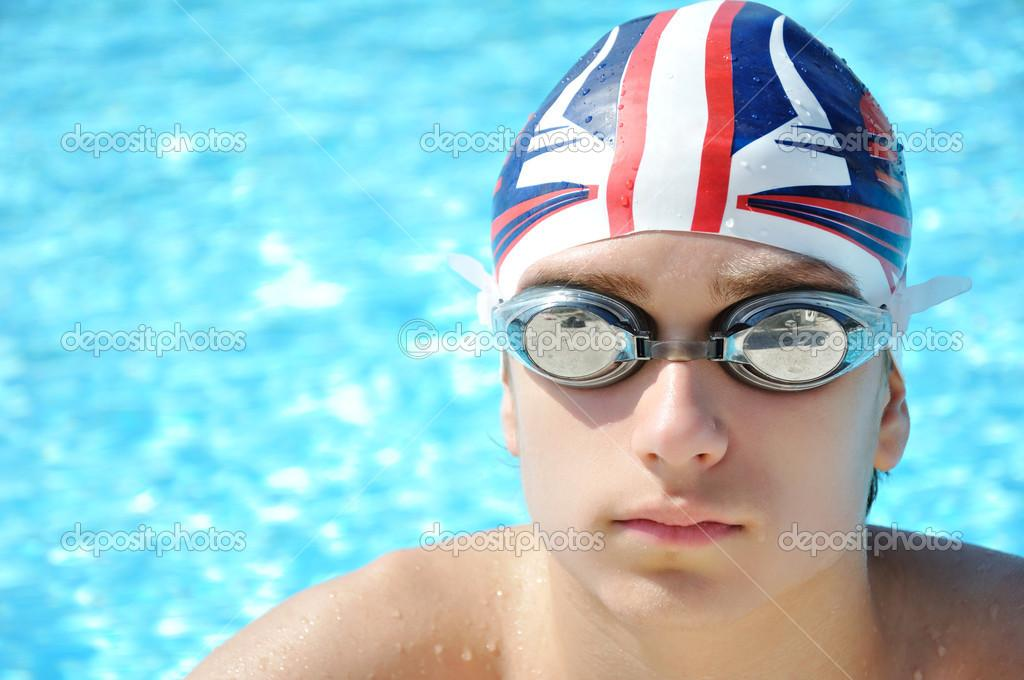face: (520, 236, 870, 622)
